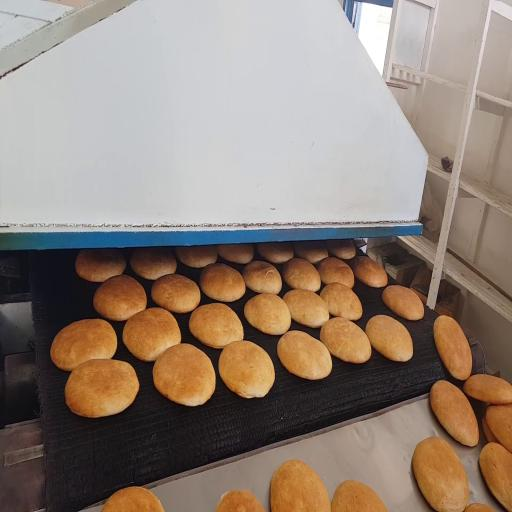bread: (65, 359, 139, 417), (412, 437, 469, 511), (153, 344, 215, 406), (51, 320, 117, 371), (219, 341, 274, 398), (430, 381, 478, 446), (123, 308, 181, 361), (271, 460, 331, 511), (278, 331, 332, 380), (434, 316, 472, 380), (189, 303, 243, 348), (94, 275, 146, 320), (320, 318, 371, 363), (479, 443, 511, 511), (366, 315, 413, 361), (244, 293, 290, 335), (151, 275, 200, 313), (283, 290, 329, 328), (200, 264, 245, 301), (332, 481, 387, 511), (76, 249, 126, 282), (320, 283, 362, 320), (130, 247, 176, 280), (102, 487, 164, 511), (382, 285, 424, 320), (464, 375, 511, 404), (283, 258, 321, 292), (242, 261, 281, 293), (486, 404, 511, 452), (317, 257, 354, 288), (353, 256, 387, 287), (176, 245, 218, 268), (216, 491, 264, 511), (257, 243, 293, 264), (294, 241, 328, 263), (218, 244, 253, 264), (327, 239, 355, 259), (482, 415, 498, 442), (465, 503, 494, 511)
